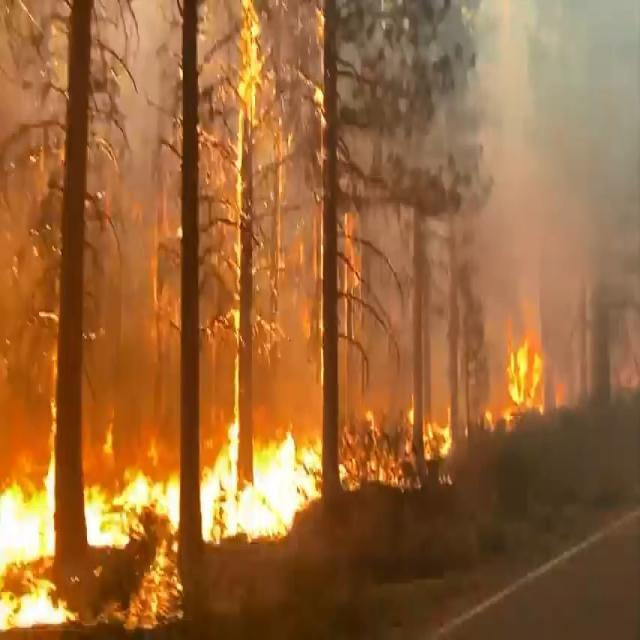Fire: (1, 308, 550, 640)
